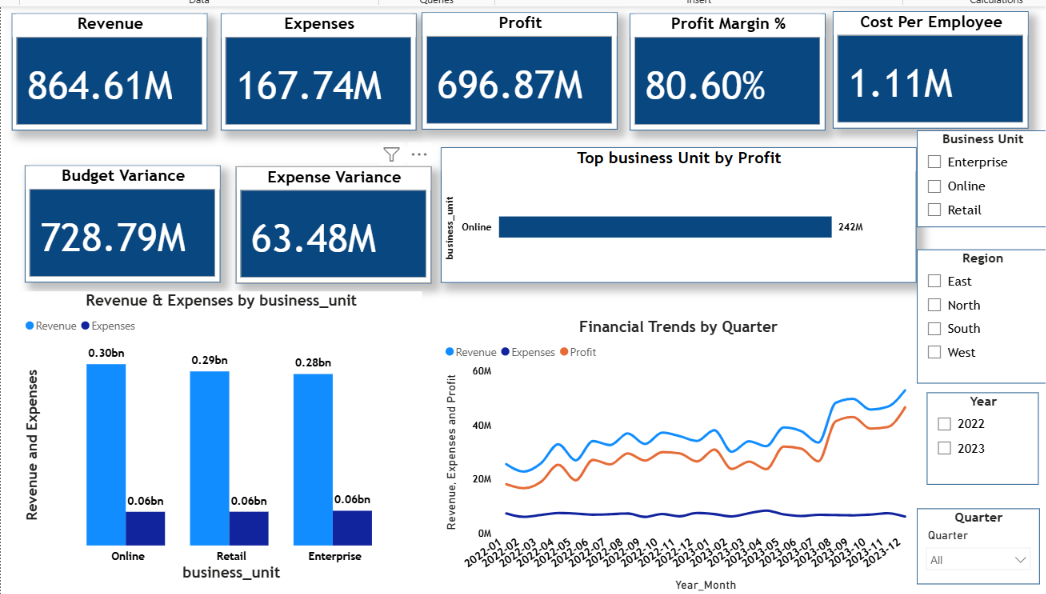

What the dashboard file says about the page in this screenshot:
{"tool":"powerbi","page":{"name":"Executive Overview","canvas":[1280,720],"ordinal":0},"visuals":[{"type":"cardVisual","title":"Revenue","fields":{"Data":["capstone_project financial_transactions.Revenue"]},"box":[13.5,8.6,239.5,142.8],"z":0},{"type":"cardVisual","title":"Expenses","fields":{"Data":["capstone_project financial_transactions.Expenses"]},"box":[269,8.6,239.5,142.8],"z":1000},{"type":"cardVisual","title":"Profit","fields":{"Data":["capstone_project financial_transactions.Profit"]},"box":[514.8,7.3,239.5,142.8],"z":2000},{"type":"cardVisual","title":"Profit Margin % ","fields":{"Data":["capstone_project financial_transactions.Profit Margin"]},"box":[769.2,8.6,239.5,142.8],"z":3000},{"type":"cardVisual","title":"Cost Per Employee","fields":{"Data":["capstone_project headcount.CostPerEmployee"]},"box":[1017.4,6.1,239.5,142.8],"z":4000},{"type":"cardVisual","title":"Budget Variance","fields":{"Data":["capstone_project financial_transactions.BudgetVariance"]},"box":[28.9,194.8,239.5,142.8],"z":5000},{"type":"cardVisual","title":"Expense Variance","fields":{"Data":["capstone_project financial_transactions.ExpenseVariance"]},"box":[287.1,196.2,239.5,142.8],"z":6000},{"type":"clusteredBarChart","title":"Top business Unit by Profit","fields":{"Category":["capstone_project financial_transactions.business_unit"],"Y":["capstone_project financial_transactions.Profit"]},"box":[538.6,172.9,581.4,165.7],"z":7000},{"type":"clusteredColumnChart","title":"Revenue & Expenses by business_unit","fields":{"Category":["capstone_project financial_transactions.business_unit"],"Y":["capstone_project financial_transactions.Revenue","capstone_project financial_transactions.Expenses"]},"box":[24.5,348.5,490.5,359.2],"z":8000},{"type":"lineChart","title":"Financial Trends by Quarter","fields":{"Category":["Calender.Year_Month","Calender.Quarter","Calender.Month"],"Y":["capstone_project financial_transactions.Revenue","capstone_project financial_transactions.Expenses","capstone_project financial_transactions.Profit"]},"box":[538.6,380,581.4,340],"z":9000},{"type":"slicer","title":"Business Unit","fields":{"Values":["Dim_Business_Unit.business_unit"]},"box":[1120,151.4,160.2,118.6],"z":10000},{"type":"slicer","title":"Region","fields":{"Values":["Dim_Region.region"]},"box":[1120,297.1,160.2,163.9],"z":11000},{"type":"slicer","title":"Year","fields":{"Values":["Calender.Year"]},"box":[1132.9,471.4,137.1,112.9],"z":12000},{"type":"slicer","title":"Quarter","fields":{"Values":["Calender.Quarter"]},"box":[1120,614.3,150,92.9],"z":13000}]}

Visuals, with their boxes on the page's 1280x720 design canvas (x1, y1, x2, y2). These are canvas units, not pixel positions in the 1046x594 screenshot, which may show the page scaled, cropped or inside an application window:
"Revenue" cardVisual: region(14, 9, 253, 151)
"Expenses" cardVisual: region(269, 9, 508, 151)
"Profit" cardVisual: region(515, 7, 754, 150)
"Profit Margin % " cardVisual: region(769, 9, 1009, 151)
"Cost Per Employee" cardVisual: region(1017, 6, 1257, 149)
"Budget Variance" cardVisual: region(29, 195, 268, 338)
"Expense Variance" cardVisual: region(287, 196, 527, 339)
"Top business Unit by Profit" clusteredBarChart: region(539, 173, 1120, 339)
"Revenue & Expenses by business_unit" clusteredColumnChart: region(24, 348, 515, 708)
"Financial Trends by Quarter" lineChart: region(539, 380, 1120, 720)
"Business Unit" slicer: region(1120, 151, 1280, 270)
"Region" slicer: region(1120, 297, 1280, 461)
"Year" slicer: region(1133, 471, 1270, 584)
"Quarter" slicer: region(1120, 614, 1270, 707)
